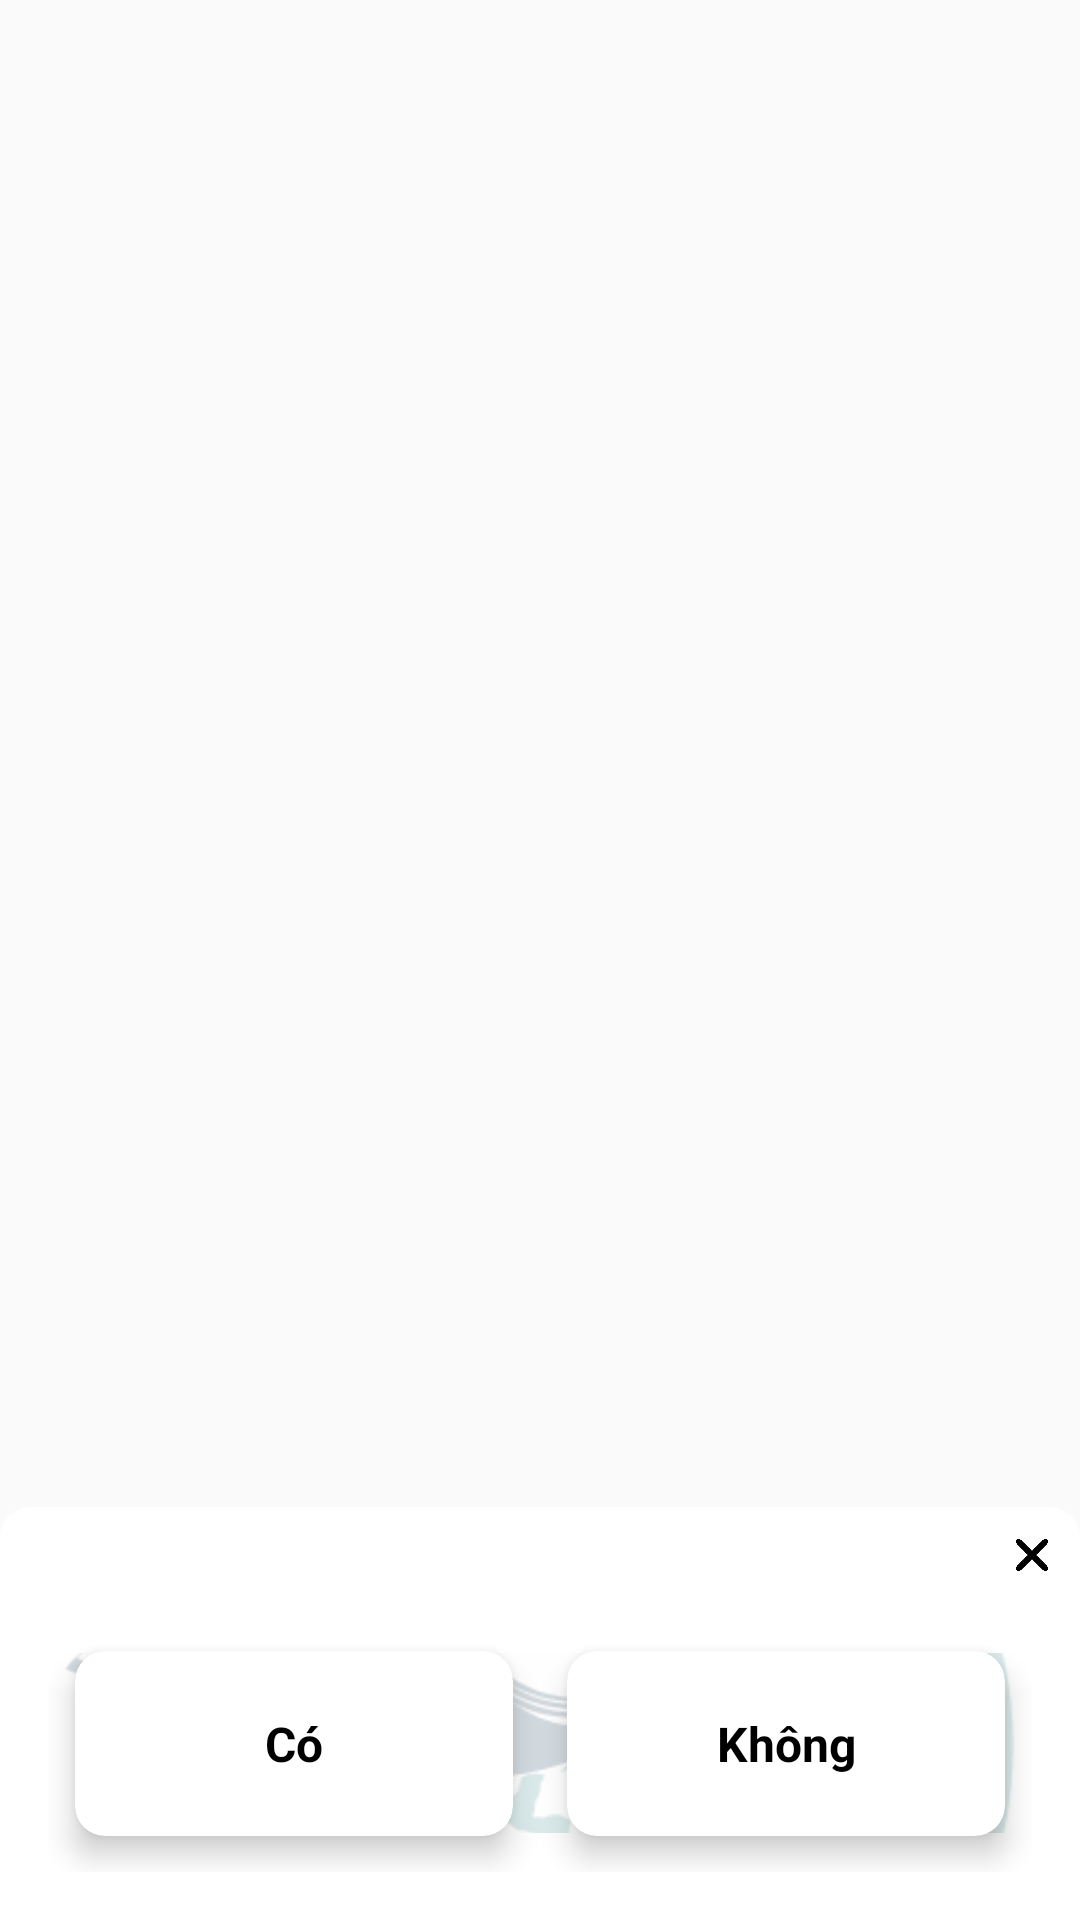

Where icons sit on this 1080w x 1920h app screen, as [left=x1, top=y1, right=x2, bottom=y2]:
close: [left=1016, top=1539, right=1048, bottom=1571]
